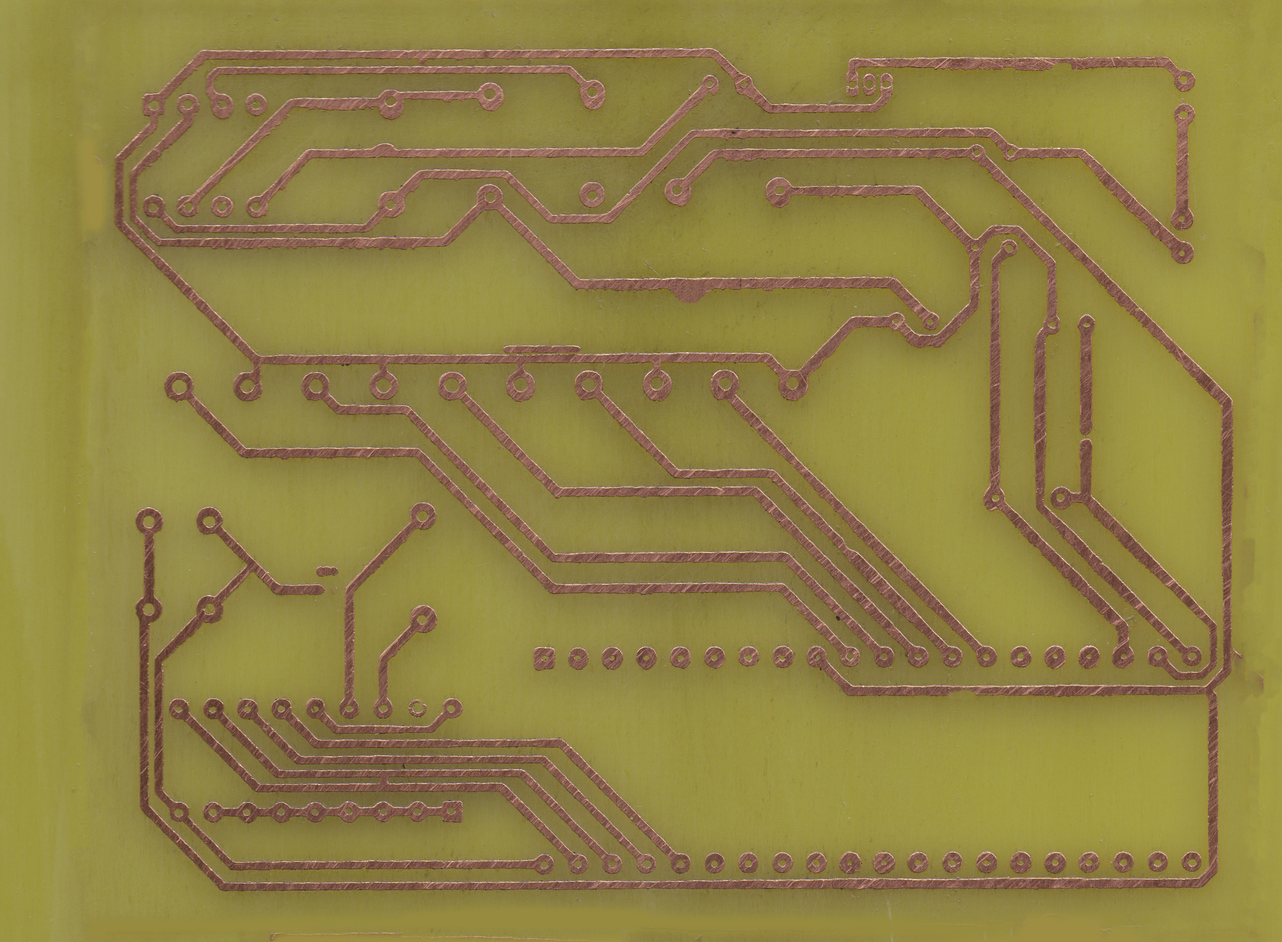missing_hole: (408, 699, 427, 717)
mouse_bite: (942, 685, 984, 699), (1047, 57, 1077, 72), (842, 538, 856, 552)
open_circuit: (1078, 425, 1093, 452)
short: (376, 770, 393, 791)
spur: (669, 278, 709, 307), (370, 141, 397, 158), (415, 51, 428, 64)
spurious_copper: (503, 344, 582, 354)
